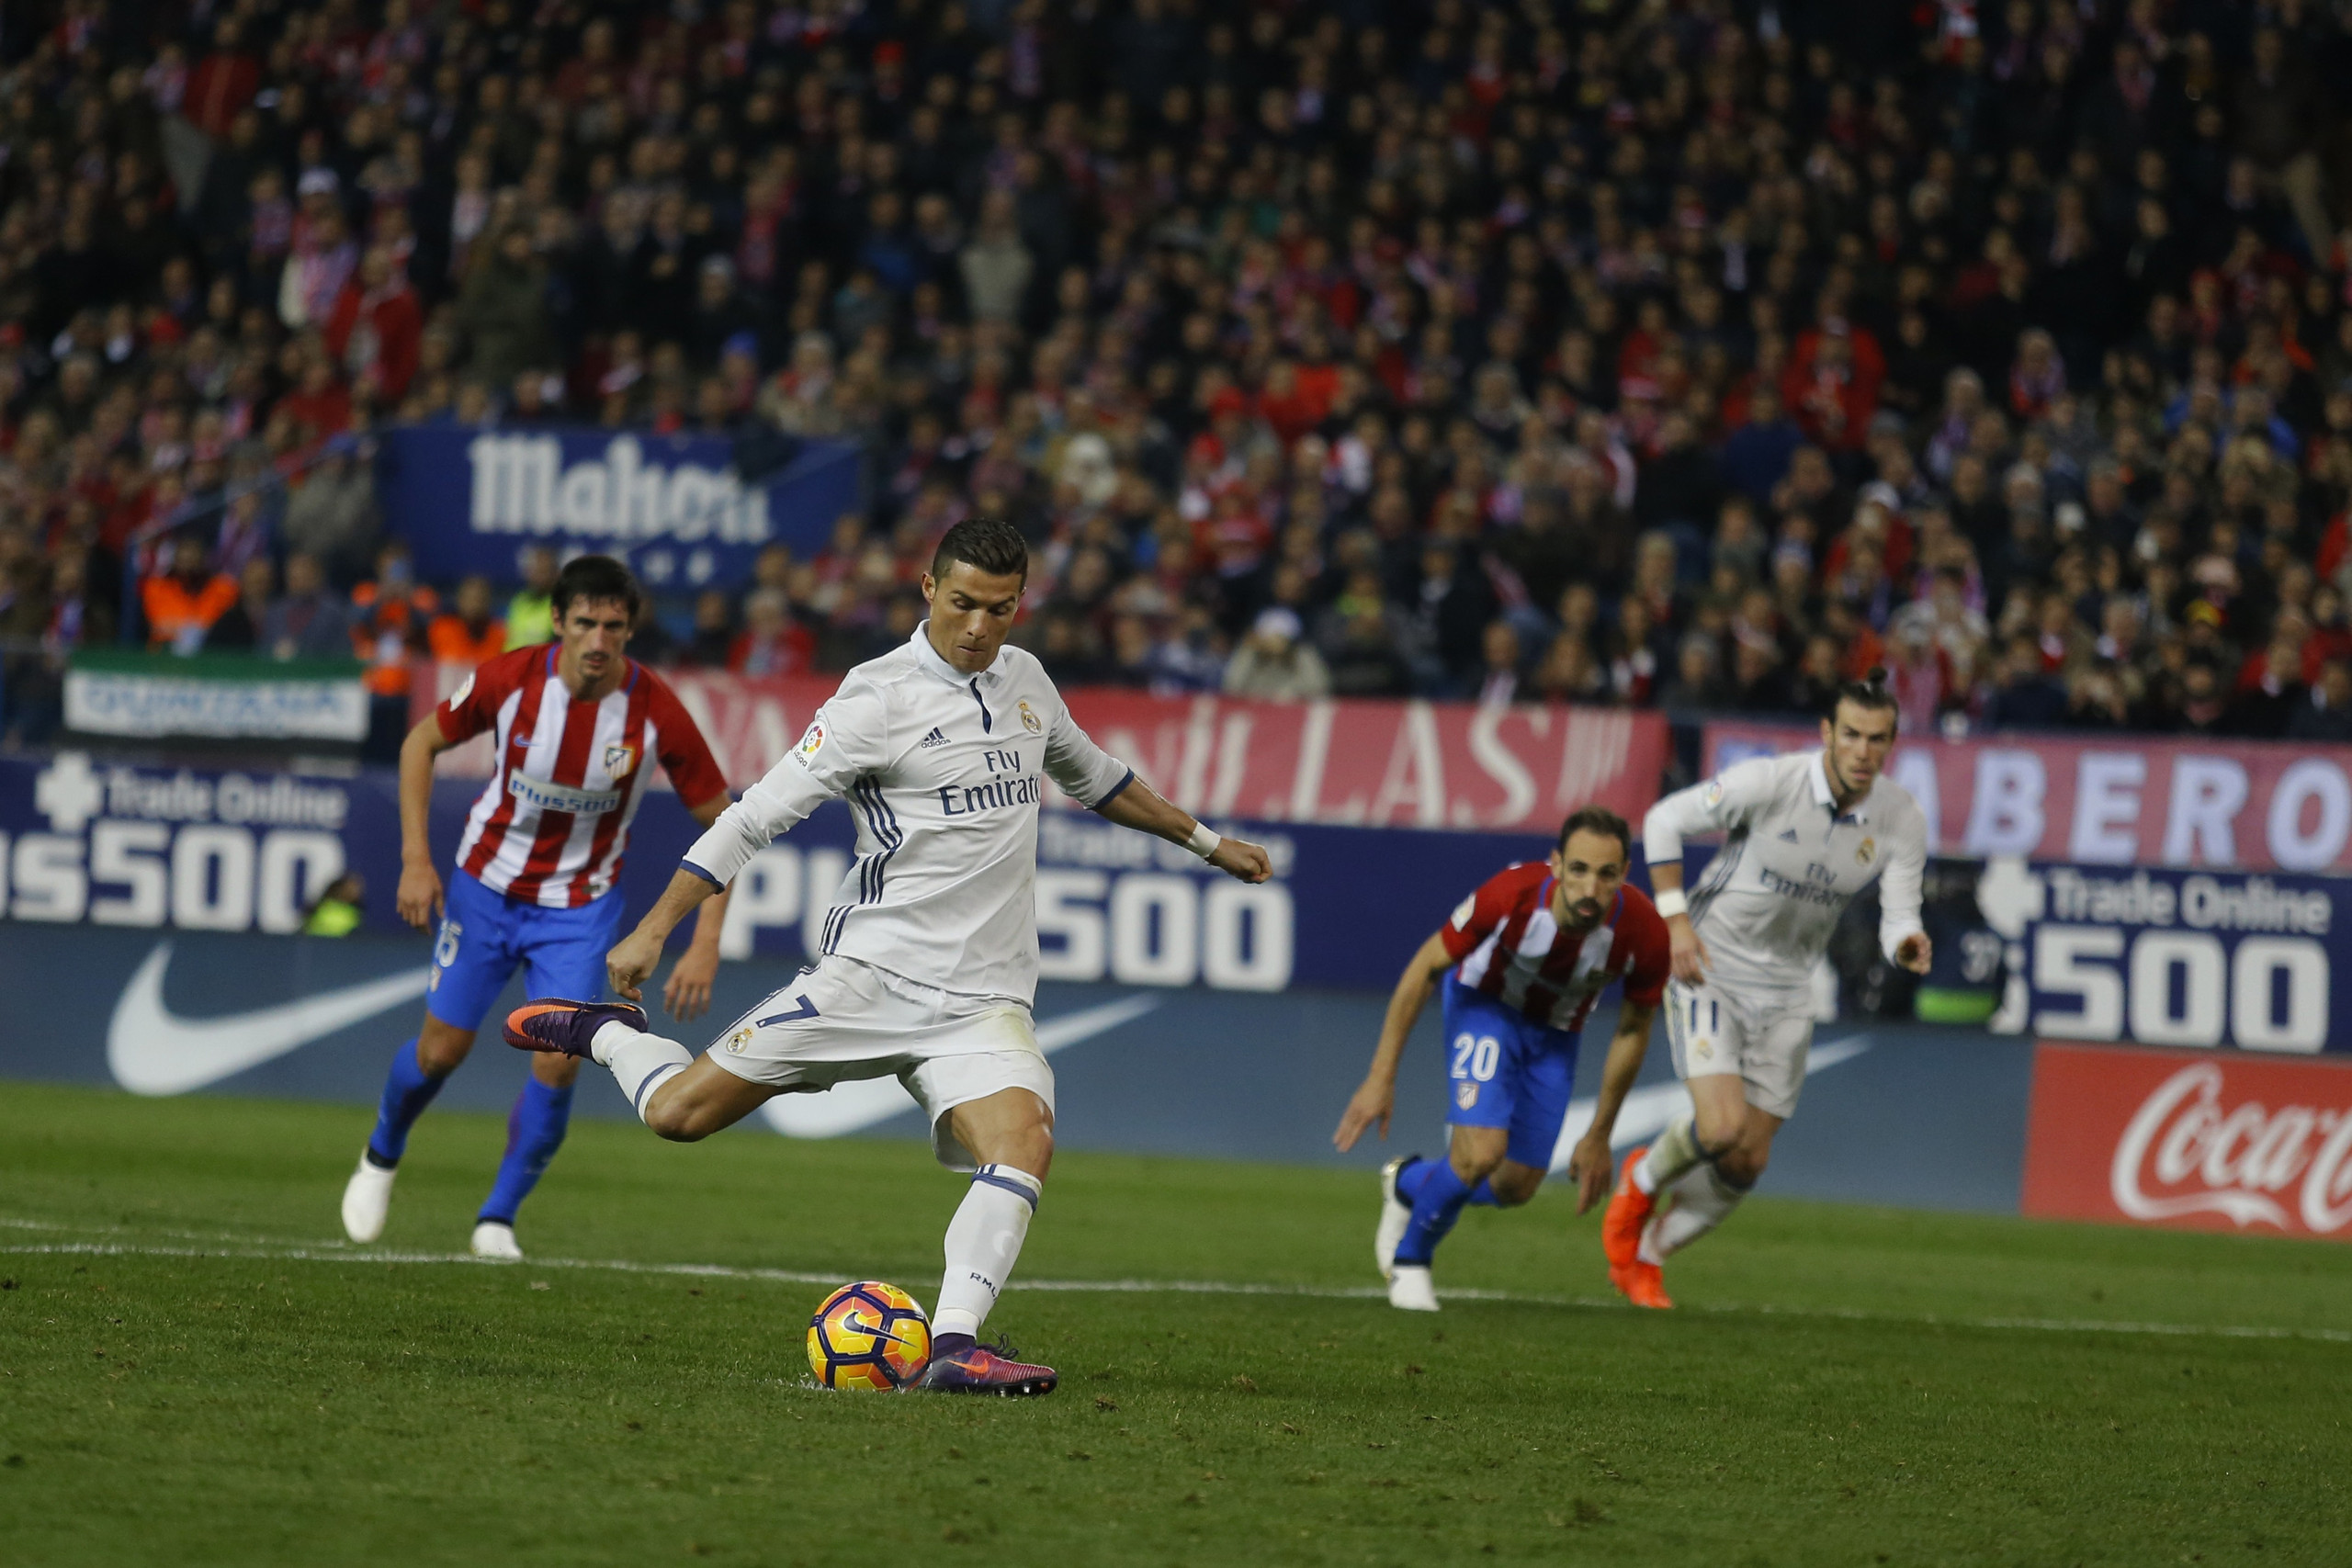soccer player: (503, 511, 1281, 1415), (335, 550, 703, 1253), (1604, 670, 1934, 1305), (1326, 801, 1673, 1317)
soccerball: (792, 1273, 944, 1404)
